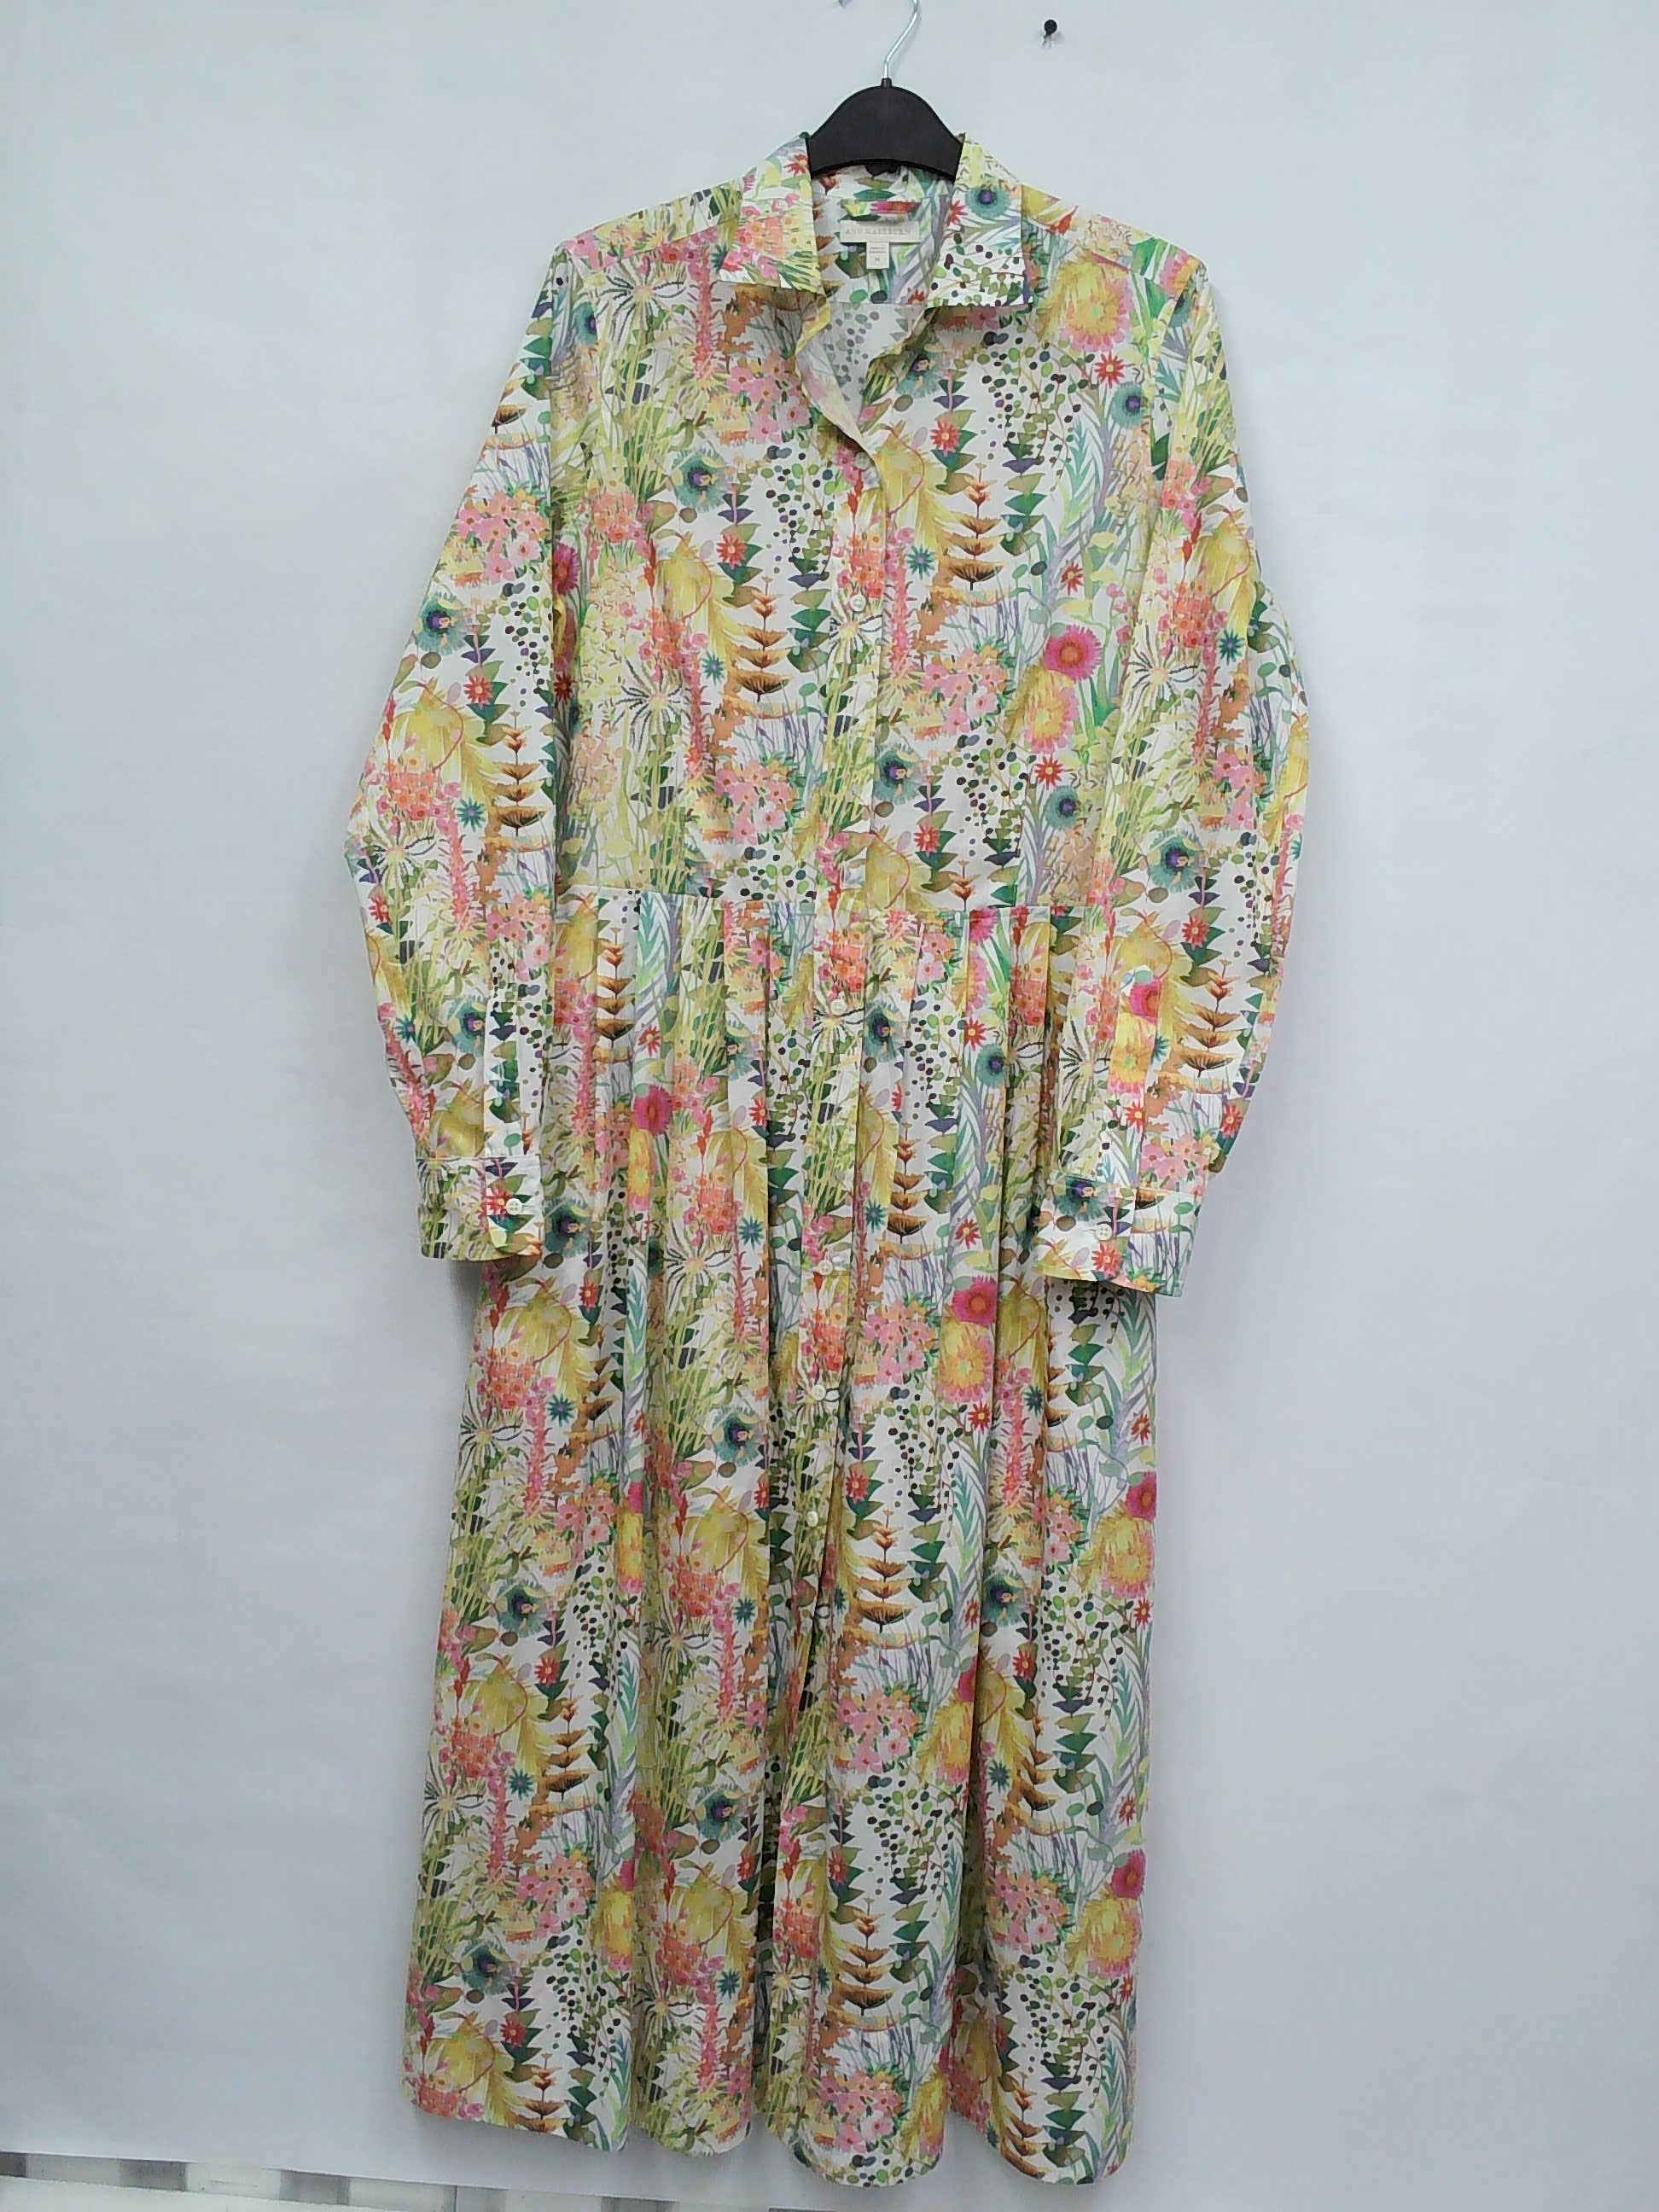structural: (416, 1143, 570, 1266)
